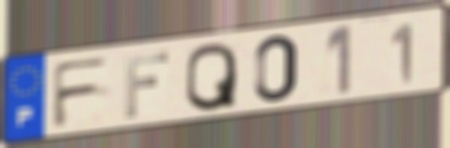0: (252, 33, 300, 105)
1: (321, 22, 354, 99), (389, 20, 414, 85)
F: (49, 54, 115, 131), (122, 48, 171, 121)
Q: (183, 39, 240, 113)
